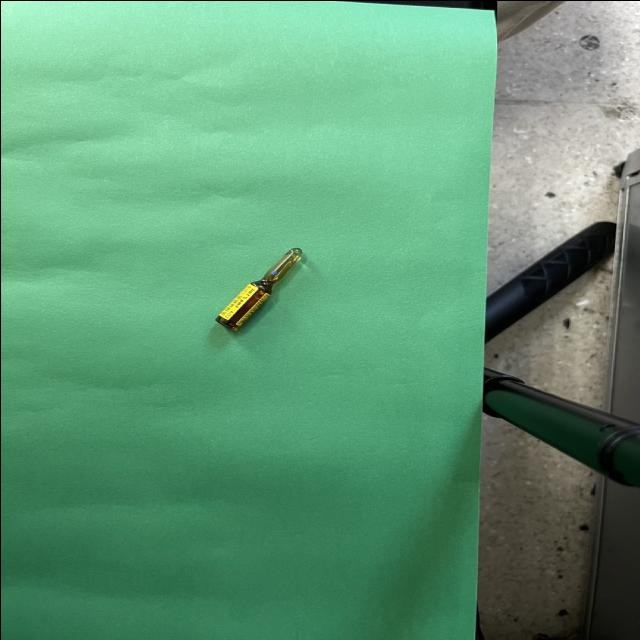Ampoules: (217, 247, 301, 330)
